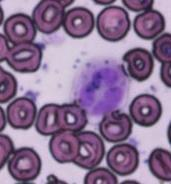N: (69, 56, 129, 118)
